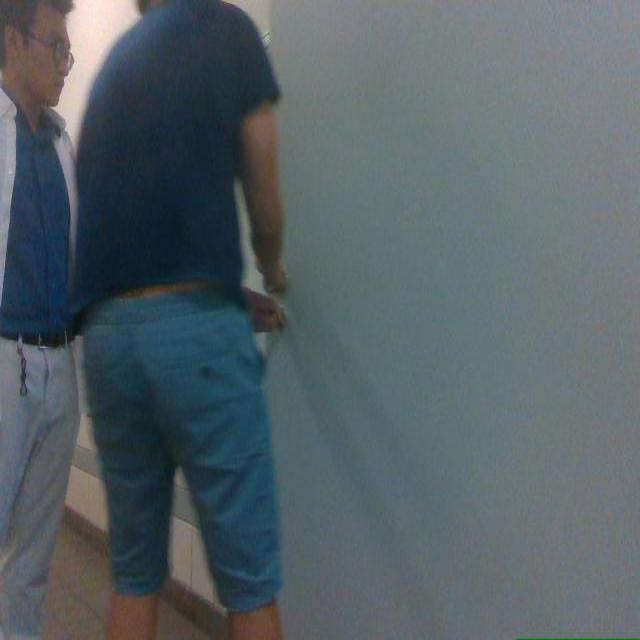humans: (72, 0, 283, 639), (0, 0, 79, 639)
objects: (267, 0, 639, 639)
